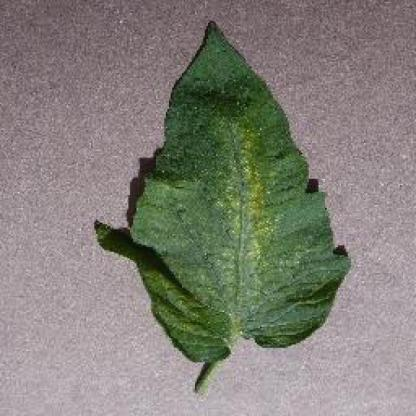Tomato_Spider_Mites: (94, 20, 351, 359)
